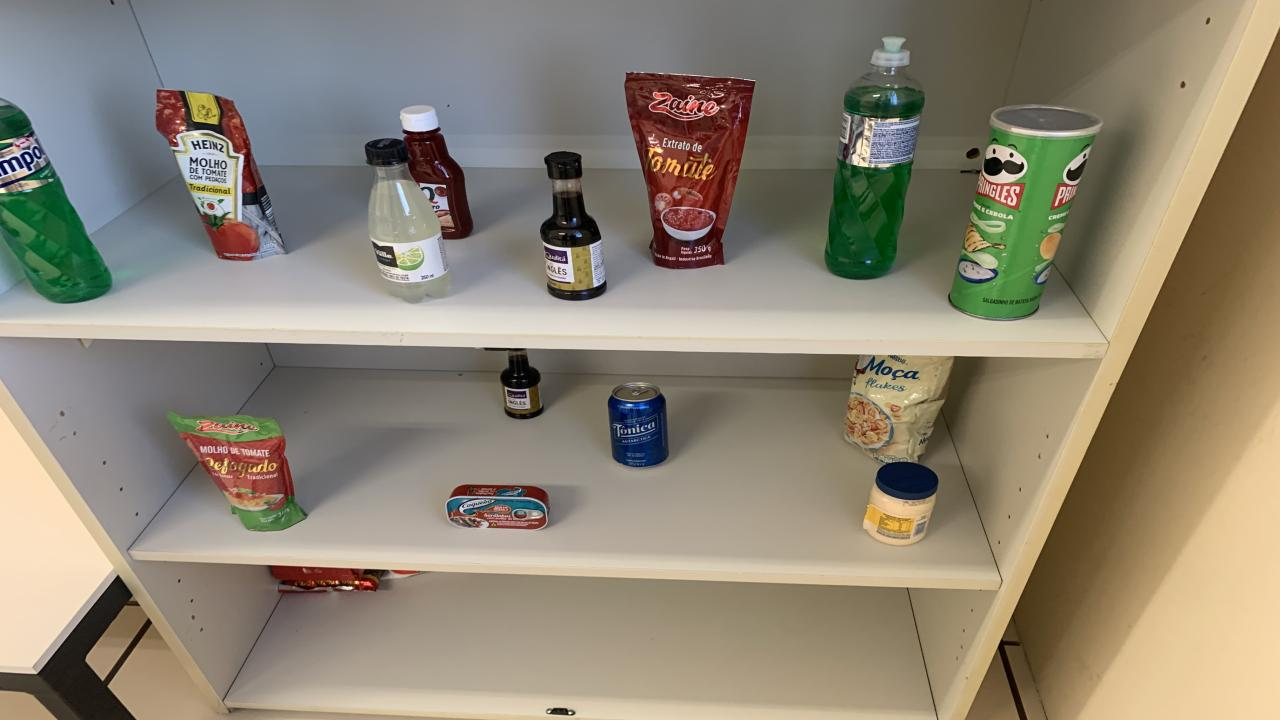Detergent-Cleanup_Items: (825, 38, 925, 279), (0, 99, 112, 304)
English_Sauce-Pantry_Items: (540, 152, 605, 300), (500, 349, 545, 420)
Flakes-Snacks: (845, 354, 955, 463)
Ketchup-Pantry_Items: (400, 105, 472, 238)
Mayonnaise-Pantry_Items: (862, 461, 938, 546)
Pringles-Snacks: (950, 105, 1102, 319)
Soda-Drinks: (365, 139, 450, 304)
Tomato_Sauce-Pantry_Items: (625, 73, 755, 268), (155, 90, 285, 261), (168, 412, 308, 531)
Tonic-Drinks: (608, 382, 670, 467)
Tuna_Can-Pantry_Items: (445, 484, 550, 529)
